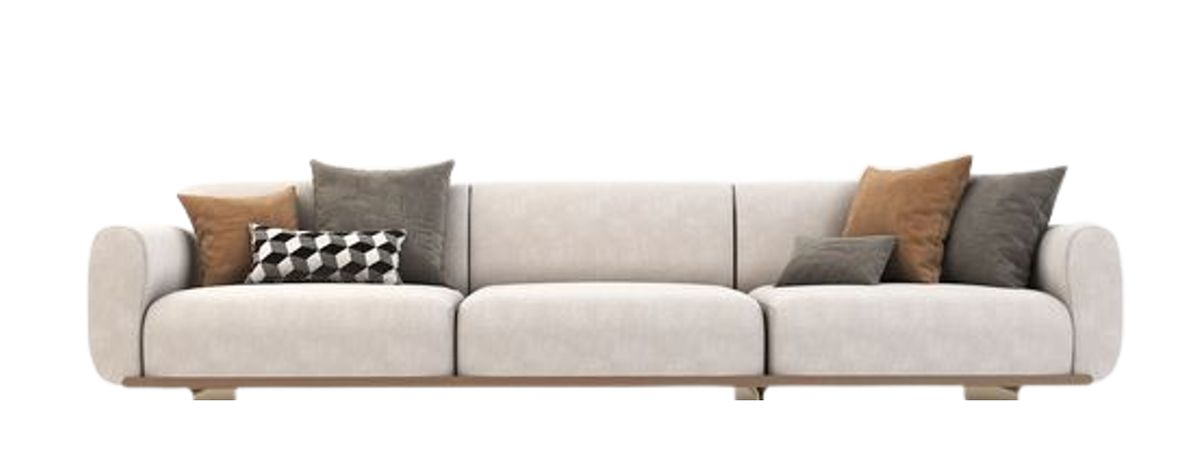3seatersofa: (89, 156, 1121, 399)
backrest: (445, 182, 855, 289), (184, 182, 290, 195)
leftarmrest: (1034, 225, 1122, 379)
leg: (120, 375, 1090, 399)
pillow: (774, 156, 1066, 287), (177, 160, 454, 285)
rightarmrest: (89, 225, 194, 382)
seat: (141, 283, 1076, 383)
